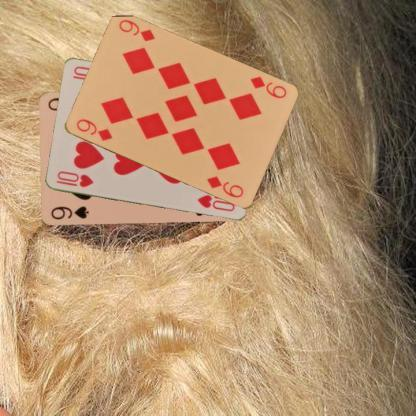10h: (53, 169, 94, 189)
9d: (247, 73, 288, 100), (73, 116, 114, 142)
9s: (48, 204, 90, 222)
